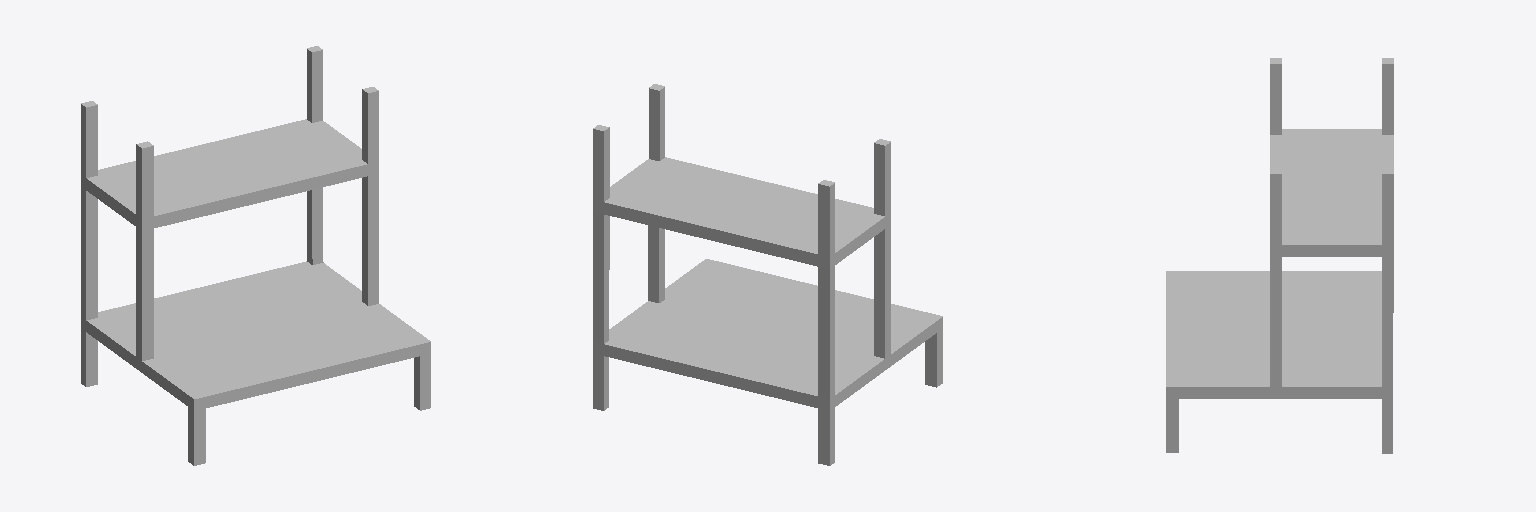
File: Kitchen_rack.obj
3 renders of one model, left to right at view 1: azimuth 30°, elevation 25°; view 2: azimuth 150°, elevation 25°; view 3: azimuth 270°, elevation 25°, orthographic.
Visible parts, largest first — view 1: Kitchen_rack:pCube9; view 2: Kitchen_rack:pCube9; view 3: Kitchen_rack:pCube9.
Part boxes in pixels (x1,y1,x2,y2): Kitchen_rack:pCube9: (81,46,430,465); Kitchen_rack:pCube9: (593,84,942,465); Kitchen_rack:pCube9: (1166,58,1393,453).
Bounding box in the file's own units: 30.52 × 34.41 × 25.34.